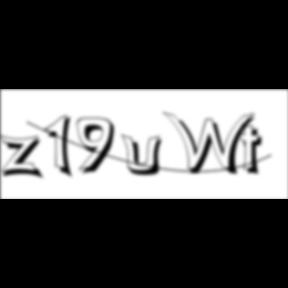1: (44, 114, 78, 182)
9: (76, 117, 122, 177)
W: (163, 110, 261, 178)
t: (240, 124, 270, 179)
u: (121, 132, 169, 178)
z: (0, 134, 48, 182)
